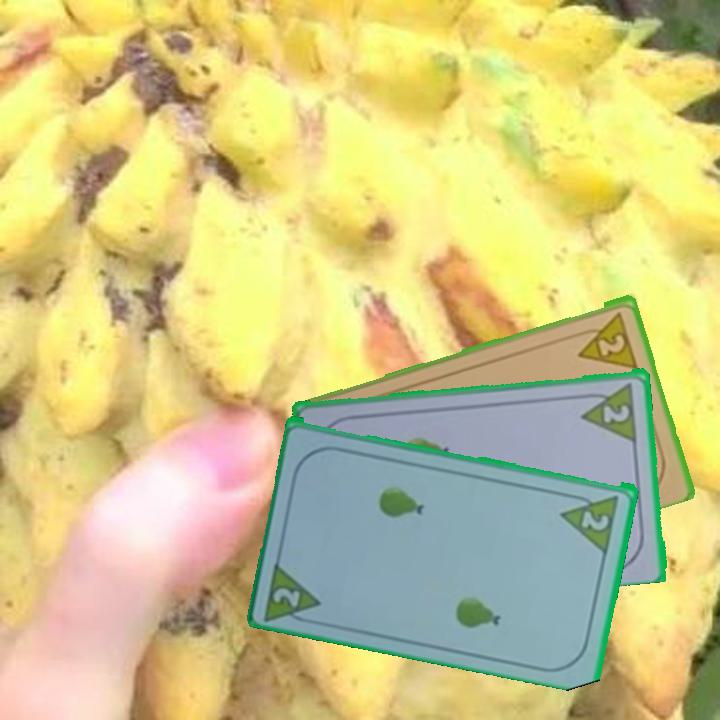2p: (570, 306, 641, 371), (261, 556, 325, 627), (578, 506, 613, 533), (600, 401, 633, 426)
